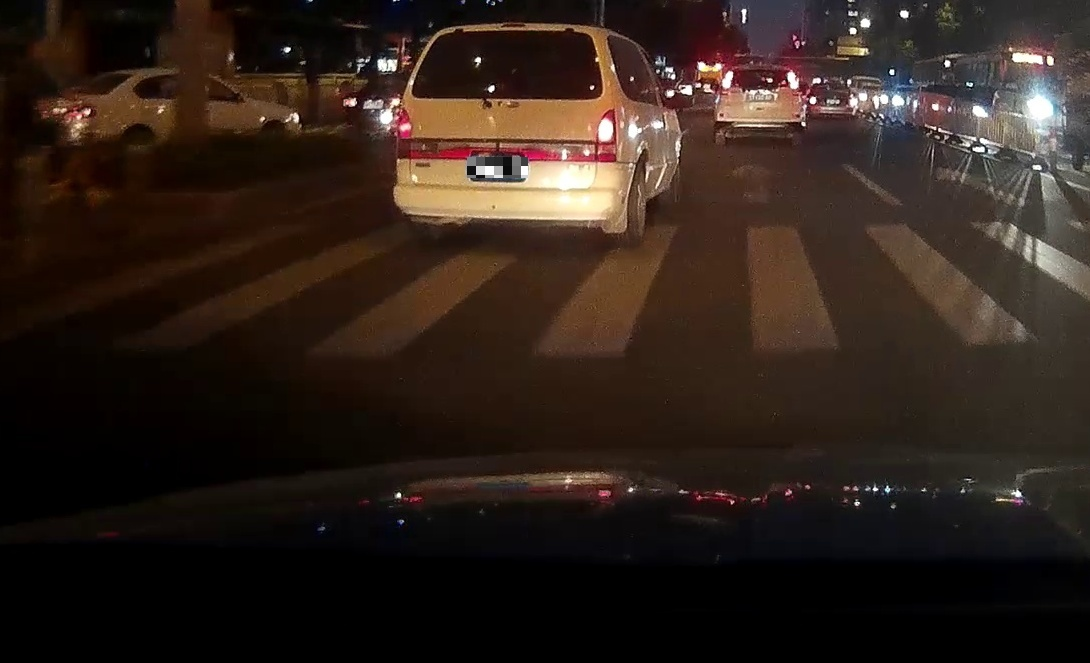L_light: (396, 108, 413, 139), (721, 71, 733, 89)
R_light: (597, 110, 616, 145), (787, 71, 799, 90)
T_light: (495, 31, 525, 38), (756, 70, 771, 72)
night-no: (714, 65, 806, 146)
night-right: (391, 23, 618, 244)
plate_1: (467, 157, 528, 178)
